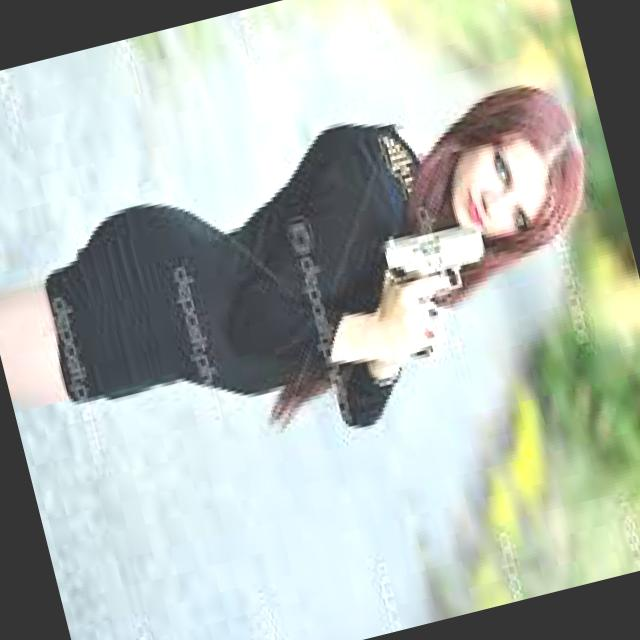handgun: (371, 203, 512, 359)
